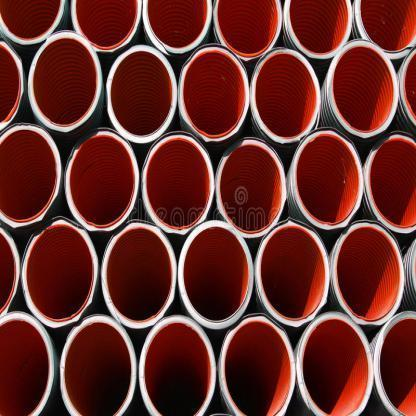pipe: (20, 216, 98, 328), (178, 221, 254, 330), (296, 312, 374, 416), (256, 218, 330, 327), (102, 219, 176, 328), (219, 312, 296, 416), (330, 220, 405, 326), (60, 312, 136, 415), (139, 315, 217, 415), (64, 128, 139, 231), (290, 127, 364, 230), (28, 30, 102, 132), (142, 131, 214, 235), (178, 43, 250, 143), (106, 44, 178, 144), (216, 136, 286, 238), (327, 40, 398, 138), (251, 48, 321, 145), (0, 122, 61, 228), (0, 310, 54, 416), (364, 130, 415, 233), (374, 312, 416, 416), (213, 0, 282, 61), (284, 0, 352, 58), (352, 0, 416, 61), (143, 0, 213, 55), (70, 0, 142, 52), (0, 0, 66, 47), (0, 38, 27, 134)
